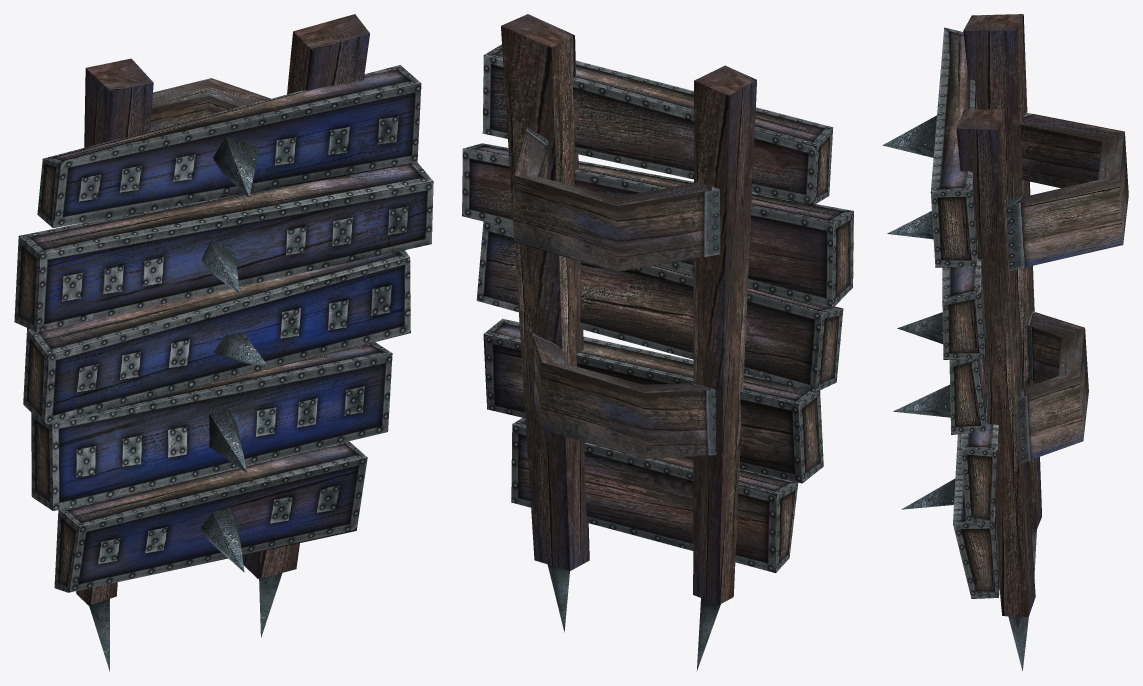
The model's file is Wood_Planks_Shield.FBX.
3 views of the same model, side by side, from view 1: azimuth 30°, elevation 25°; view 2: azimuth 150°, elevation 25°; view 3: azimuth 270°, elevation 25° (orthographic). The views are drawn at different scales.
Visible parts, largest first — view 1: Wood_Planks_Shield; view 2: Wood_Planks_Shield; view 3: Wood_Planks_Shield.
Part boxes in pixels (x1,y1,x2,y2): Wood_Planks_Shield: (14,14,433,671); Wood_Planks_Shield: (462,14,853,671); Wood_Planks_Shield: (882,14,1128,670).
Bounding box in the file's own units: 48.64 × 72.6 × 27.89.
